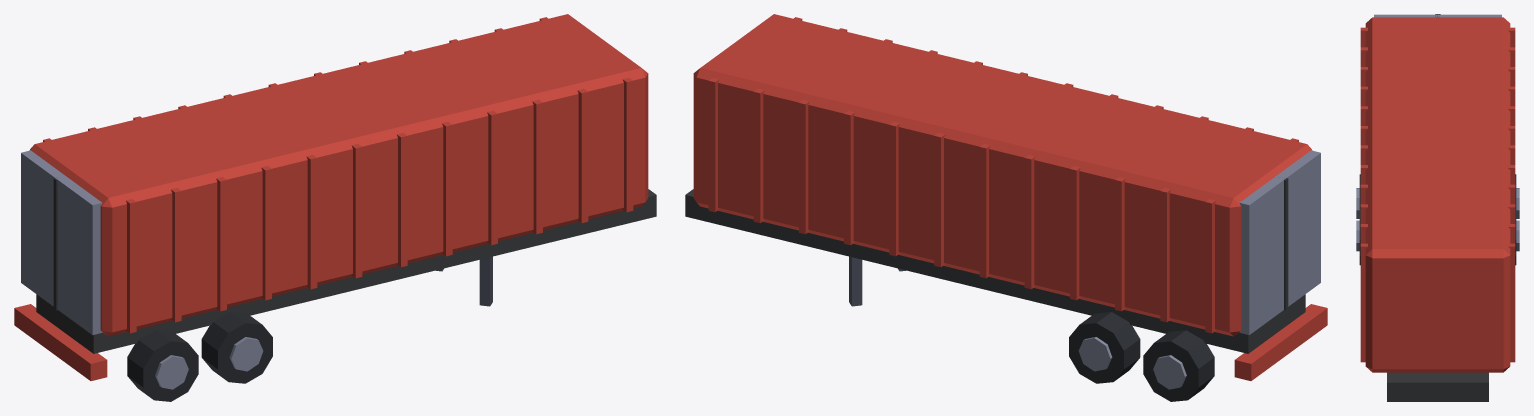
File: semi.trailer-container-red.glb
3 views of the same model, side by side, from view 1: azimuth 30°, elevation 25°; view 2: azimuth 150°, elevation 25°; view 3: azimuth 270°, elevation 25° (orthographic). The views are drawn at different scales.
Parts seen in each view (by area): view 1: model; view 2: model; view 3: model.
Boxes of the visible parts, x1,y1,x2,y2 form: model: [14, 14, 656, 401]; model: [685, 14, 1327, 401]; model: [1356, 14, 1519, 401].
Size of the model in its own units: 0.695 by 0.245 by 0.192.
Materials: 1 (1 with a texture image).
